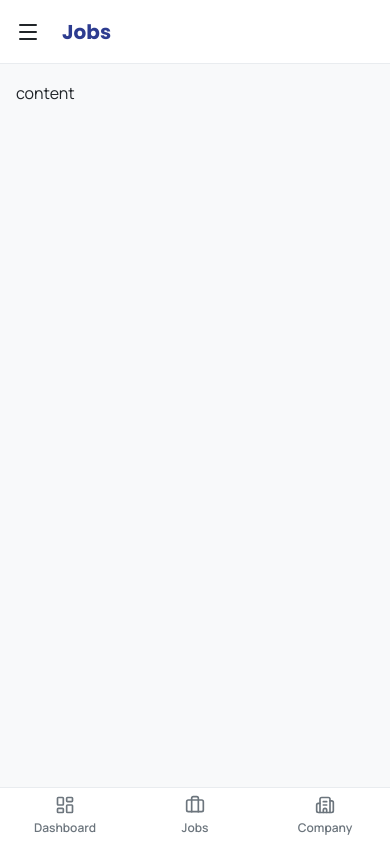
Scenario: AppShell › opens the full menu on mobile
The image size is (390, 844).
Click the button named "Menu": (28, 32) [6,10,50,54]
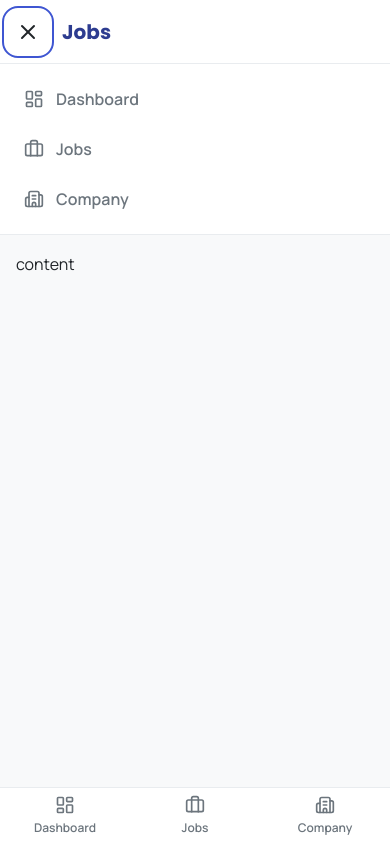
Check: the button named "Menu" is expanded, box [6,10,50,54]
Check: the navigation bar with id "app-menu" is shown, box [0,64,389,235]
